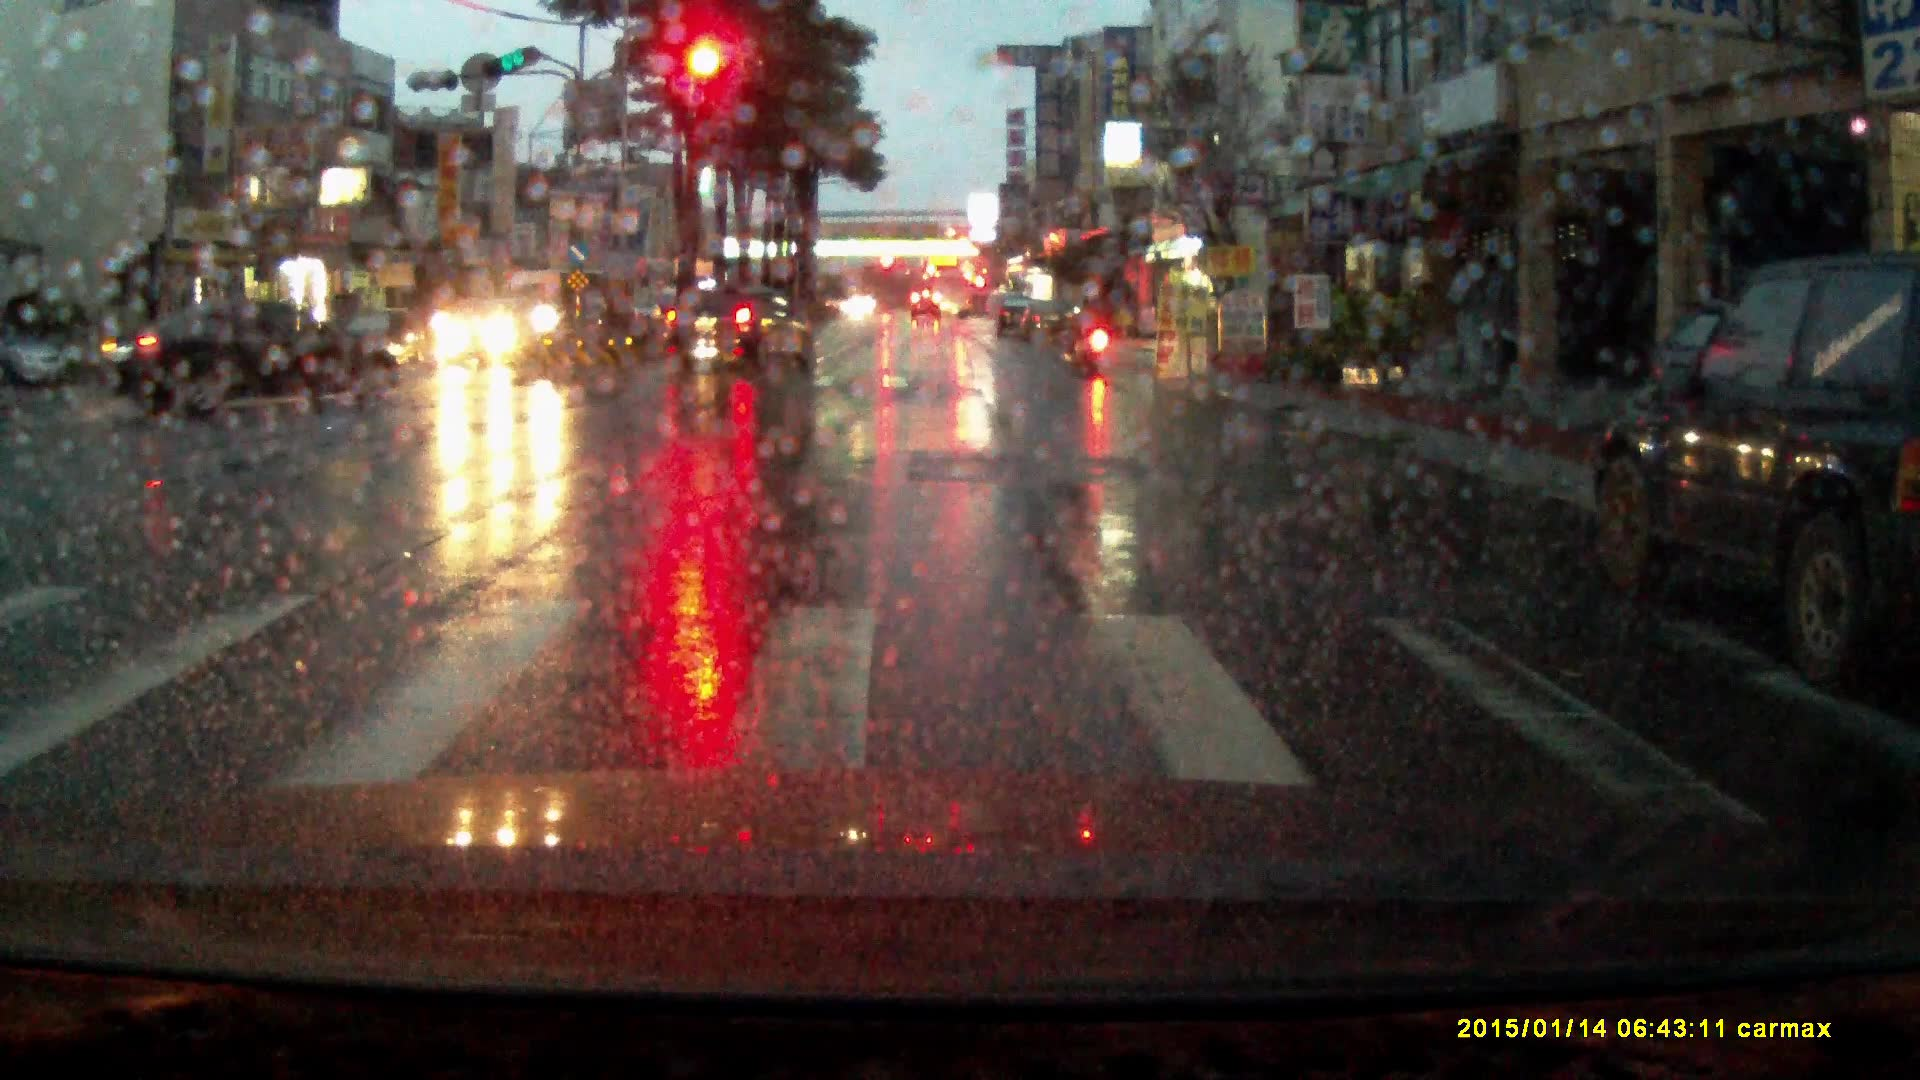rider: (1070, 278, 1120, 378)
vehicle: (1582, 248, 1920, 683), (104, 299, 410, 414), (658, 283, 808, 373), (431, 298, 546, 370), (316, 304, 429, 374), (494, 268, 591, 341), (574, 288, 664, 340), (1017, 300, 1079, 346), (931, 264, 973, 321), (995, 295, 1030, 338), (911, 291, 943, 322)
